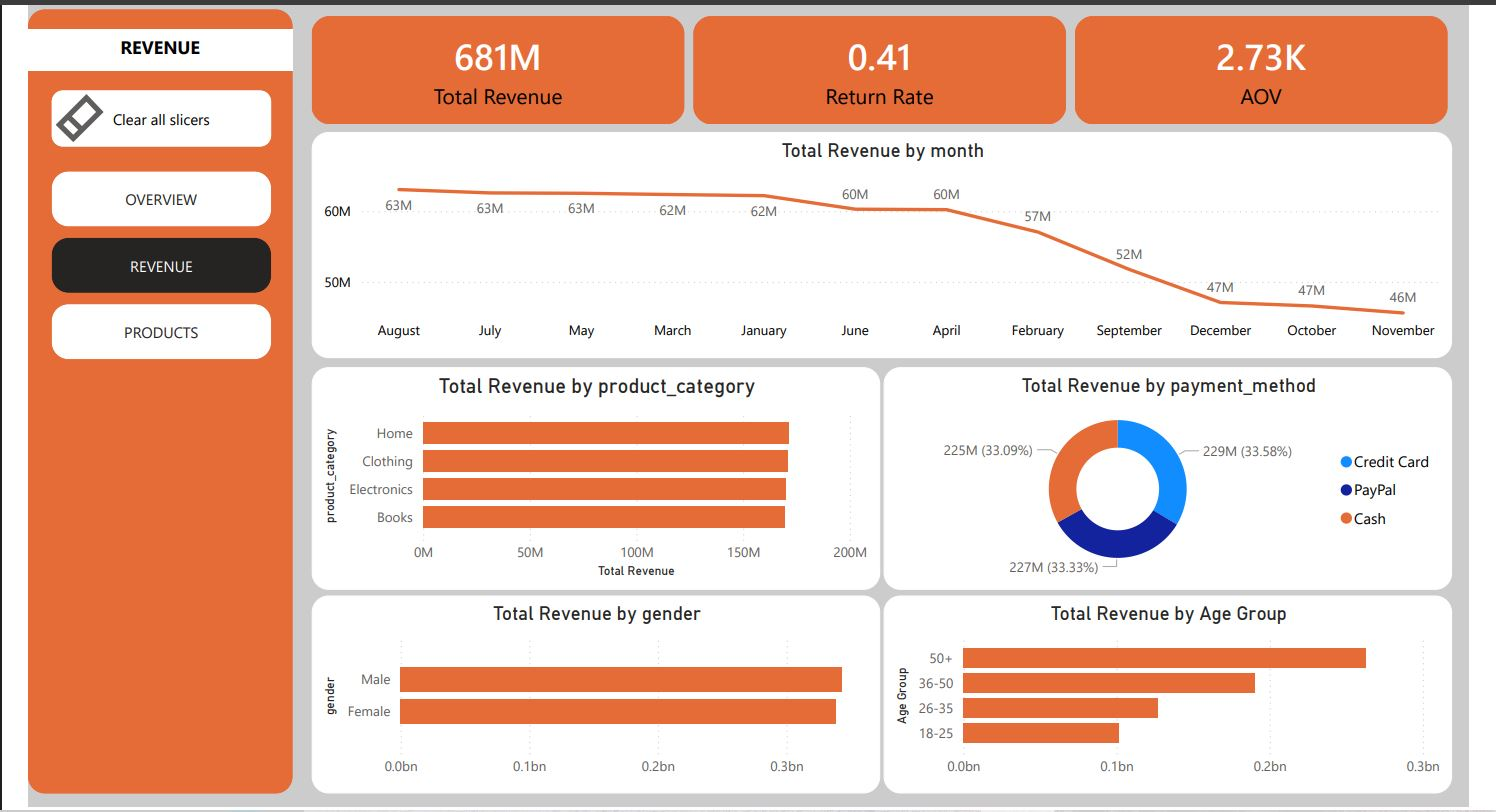

What the dashboard file says about the page in this screenshot:
{"tool":"powerbi","page":{"name":"REVENUE","canvas":[1280,720],"ordinal":1},"visuals":[{"type":"cardVisual","fields":{"Data":["calculation.Total Revenue","calculation.Return Rate","calculation.AOV"]},"box":[234.9,0,1044.9,130],"z":0},{"type":"shape","box":[0,11.2,234.9,696.6],"z":1000},{"type":"lineChart","fields":{"Category":["ecommerce_customer_data_large_cleaned.month"],"Y":["calculation.Total Revenue"]},"box":[252.4,119.8,1012.9,201.3],"z":2000},{"type":"clusteredBarChart","fields":{"Category":["ecommerce_customer_data_large_cleaned.product_category"],"Y":["calculation.Total Revenue"]},"box":[252.4,329.1,504.9,198.1],"z":3000},{"type":"donutChart","fields":{"Category":["ecommerce_customer_data_large_cleaned.payment_method"],"Y":["calculation.Total Revenue"]},"box":[760.5,329.1,504.9,198.1],"z":4000},{"type":"clusteredBarChart","fields":{"Category":["ecommerce_customer_data_large_cleaned.gender"],"Y":["calculation.Total Revenue"]},"box":[252,532,505,176],"z":5000},{"type":"actionButton","box":[20.8,83.1,194.9,49.5],"z":6000},{"type":"pageNavigator","box":[20.8,155,194.9,169.4],"z":7000},{"type":"clusteredBarChart","fields":{"Category":["ecommerce_customer_data_large_cleaned.Age Group"],"Y":["calculation.Total Revenue"]},"box":[760,532,505,176],"z":8000},{"type":"textbox","box":[0,28.8,234.9,36.7],"z":9000}]}

Visuals, with their boxes on the page's 1280x720 design canvas (x1, y1, x2, y2). These are canvas units, not pixel positions in the 1496x812 screenshot, which may show the page scaled, cropped or inside an application window:
cardVisual - calculation.Total Revenue x calculation.Return Rate: bbox=(235, 0, 1280, 130)
shape: bbox=(0, 11, 235, 708)
lineChart - ecommerce_customer_data_large_cleaned.month x calculation.Total Revenue: bbox=(252, 120, 1265, 321)
clusteredBarChart - ecommerce_customer_data_large_cleaned.product_category x calculation.Total Revenue: bbox=(252, 329, 757, 527)
donutChart - ecommerce_customer_data_large_cleaned.payment_method x calculation.Total Revenue: bbox=(760, 329, 1265, 527)
clusteredBarChart - ecommerce_customer_data_large_cleaned.gender x calculation.Total Revenue: bbox=(252, 532, 757, 708)
actionButton: bbox=(21, 83, 216, 133)
pageNavigator: bbox=(21, 155, 216, 324)
clusteredBarChart - ecommerce_customer_data_large_cleaned.Age Group x calculation.Total Revenue: bbox=(760, 532, 1265, 708)
textbox: bbox=(0, 29, 235, 66)
